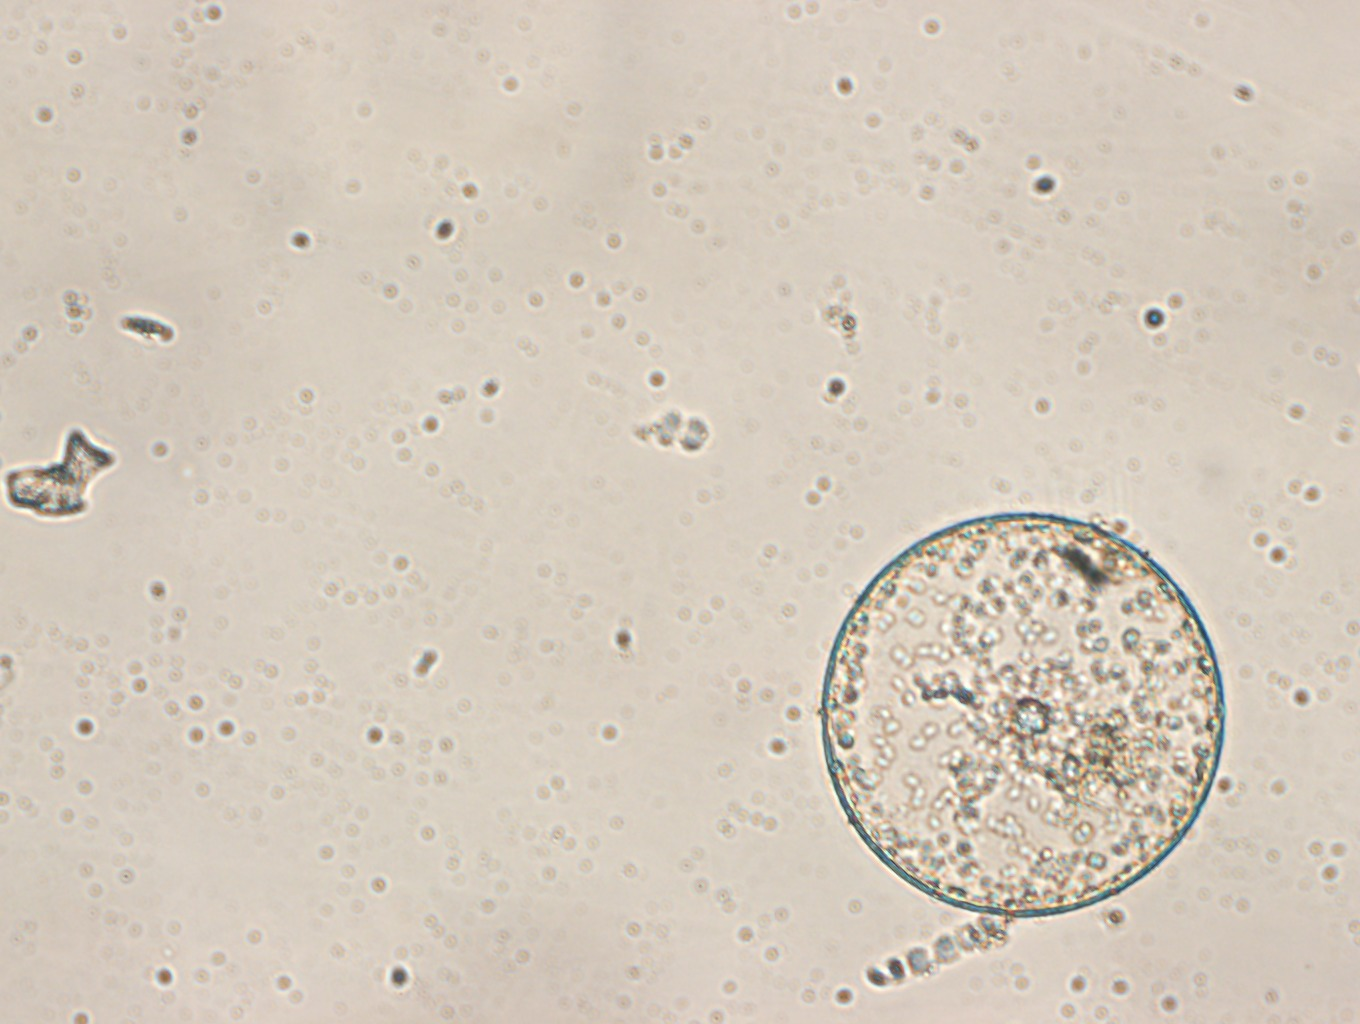coscinodiscus: (815, 502, 1234, 922)
